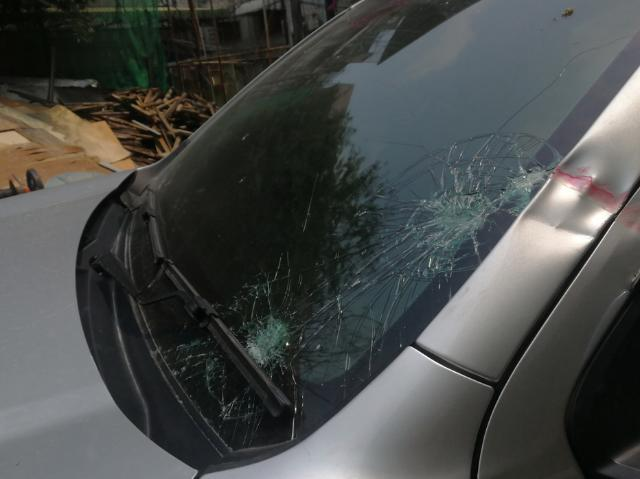Windshield: (210, 119, 603, 414)
